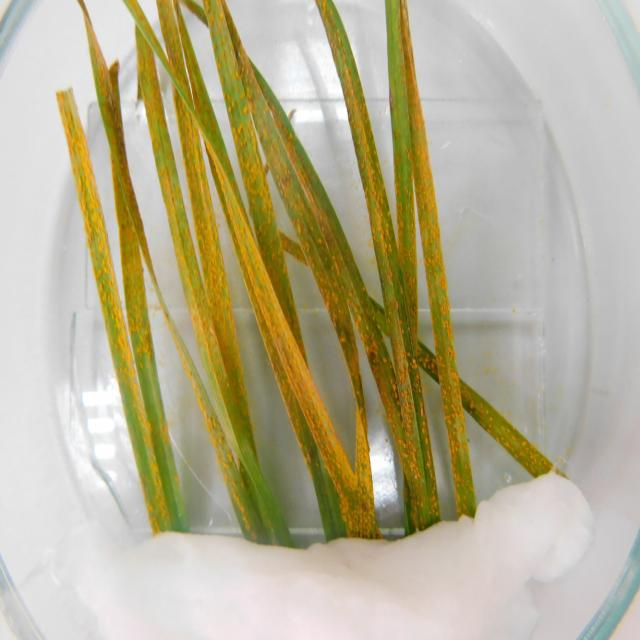wheat-yellowrust: (77, 0, 271, 545), (247, 53, 423, 531), (137, 30, 295, 545), (203, 136, 381, 542), (312, 0, 438, 526), (220, 0, 370, 438), (55, 90, 175, 528), (398, 0, 476, 516), (206, 1, 307, 350), (178, 89, 258, 457), (113, 154, 179, 529), (177, 1, 242, 198), (457, 380, 558, 475), (387, 0, 414, 324)
